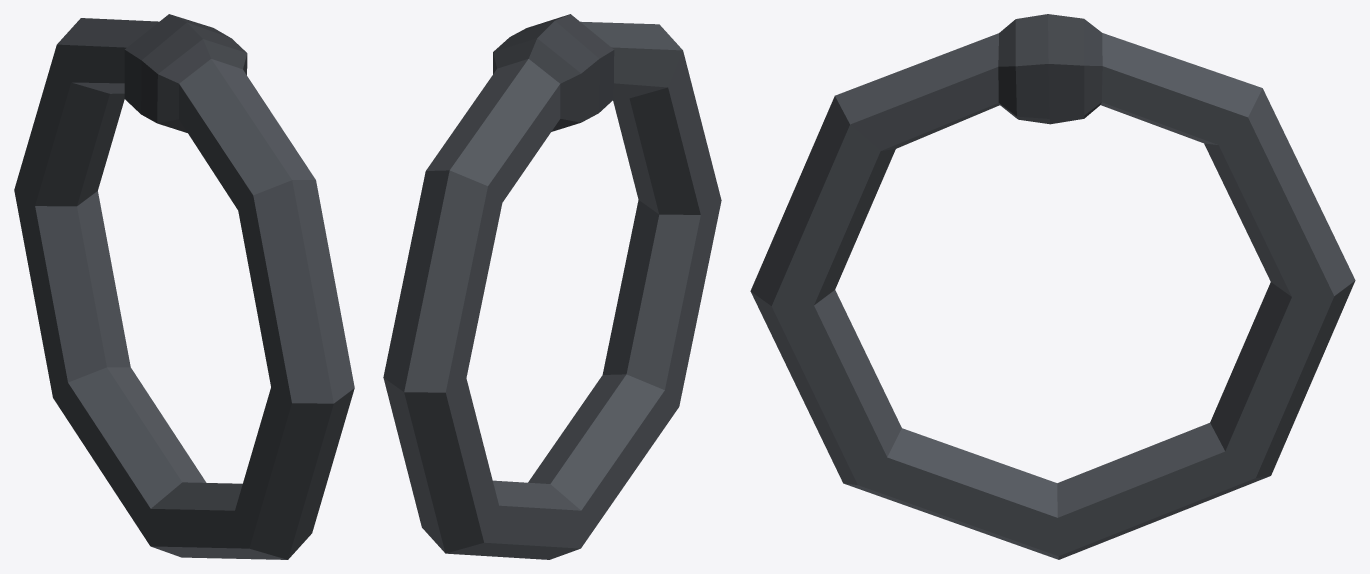
File: SM_Prop_Key_Ring_01.fbx
3 views of the same model, side by side, from view 1: azimuth 30°, elevation 25°; view 2: azimuth 150°, elevation 25°; view 3: azimuth 270°, elevation 25° (orthographic).
Parts seen in each view (by area): view 1: SM_Prop_Key_Ring_01; view 2: SM_Prop_Key_Ring_01; view 3: SM_Prop_Key_Ring_01.
Boxes of the visible parts, bbox=[...] form: SM_Prop_Key_Ring_01: bbox=[14, 14, 354, 559]; SM_Prop_Key_Ring_01: bbox=[383, 14, 721, 559]; SM_Prop_Key_Ring_01: bbox=[750, 14, 1355, 559].
Bounding box in the file's own units: 3.56 × 20.36 × 20.45.
